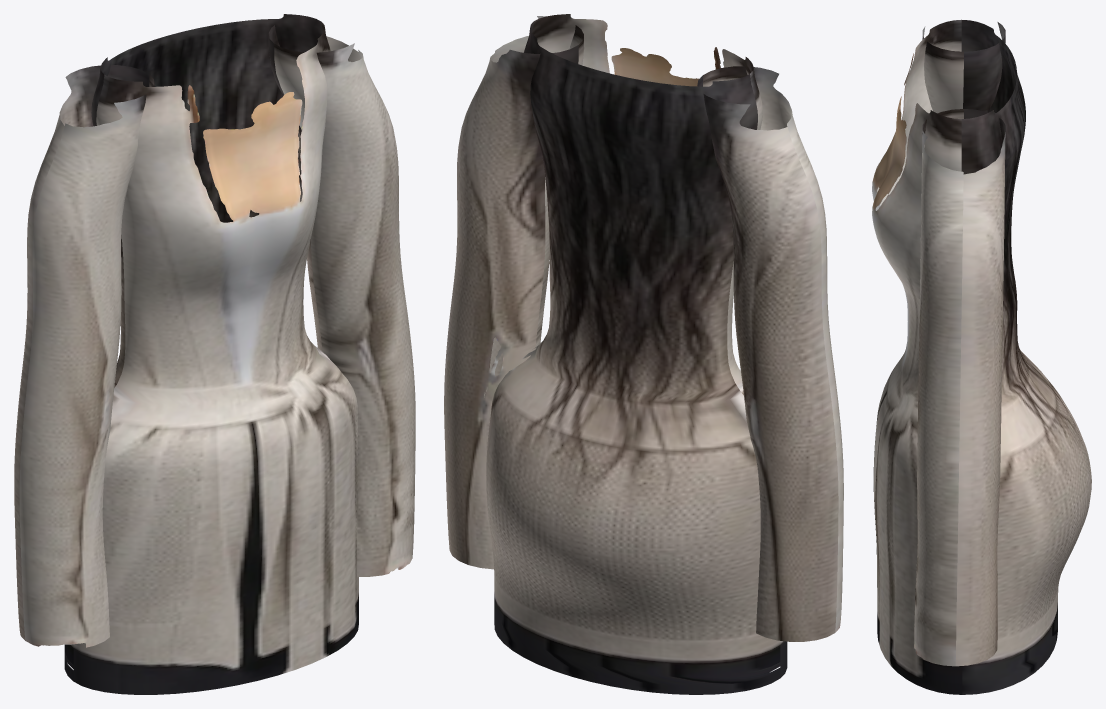
The model's file is prod-ae-linen-cinch-cardigan.glb.
3 renders of one model, left to right at view 1: azimuth 30°, elevation 25°; view 2: azimuth 150°, elevation 25°; view 3: azimuth 270°, elevation 25°, orthographic. The views are drawn at different scales.
Parts seen in each view (by area): view 1: prod-ae-linen-cinch-cardigan; view 2: prod-ae-linen-cinch-cardigan; view 3: prod-ae-linen-cinch-cardigan.
Part boxes in pixels (box(x1,y1,x2,y2)): prod-ae-linen-cinch-cardigan: box(14, 14, 415, 694); prod-ae-linen-cinch-cardigan: box(444, 14, 843, 694); prod-ae-linen-cinch-cardigan: box(872, 19, 1091, 694).
Bounding box in the file's own units: 0.4238 × 0.6214 × 0.2203.
Materials: 1 (1 with a texture image).
